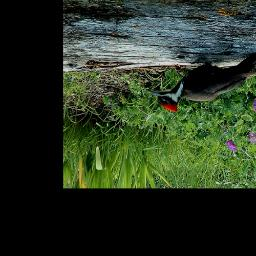Woodpecker: (147, 52, 256, 113)
